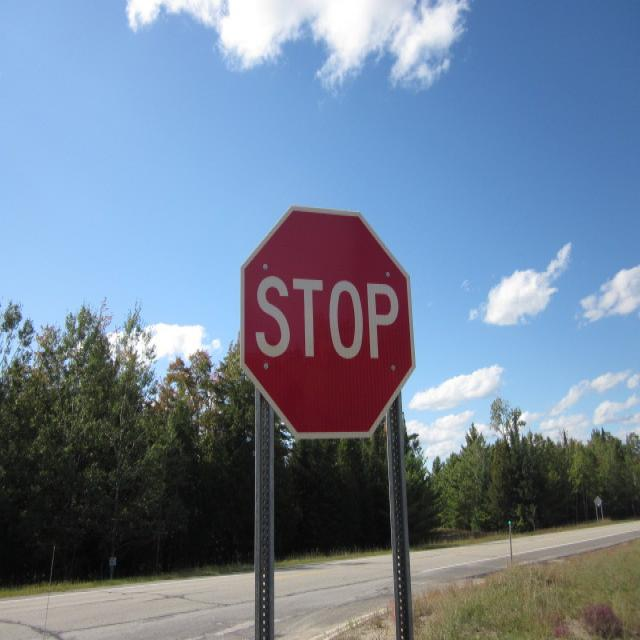stop: (237, 206, 418, 443)
